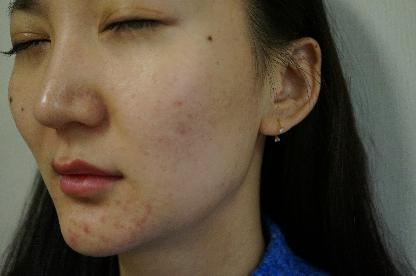Blackheads: (203, 31, 219, 46)
Papules: (79, 221, 96, 240)
acne scar: (174, 117, 192, 138), (140, 197, 158, 217), (131, 215, 152, 230)
